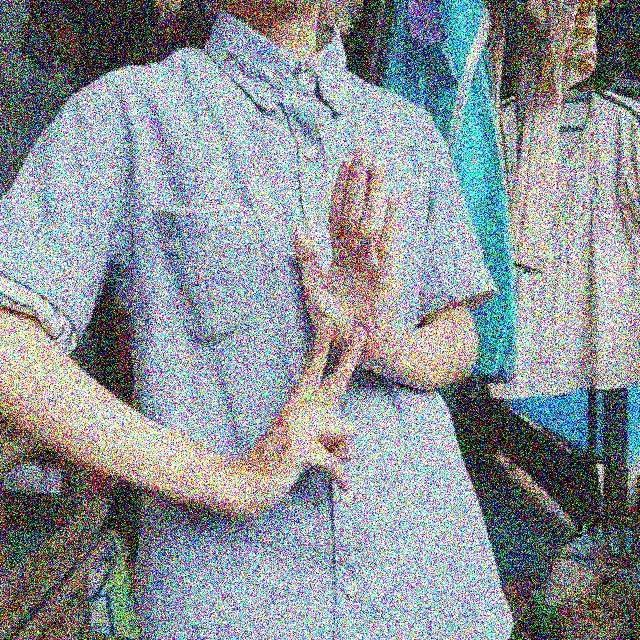N: (286, 141, 408, 414)
